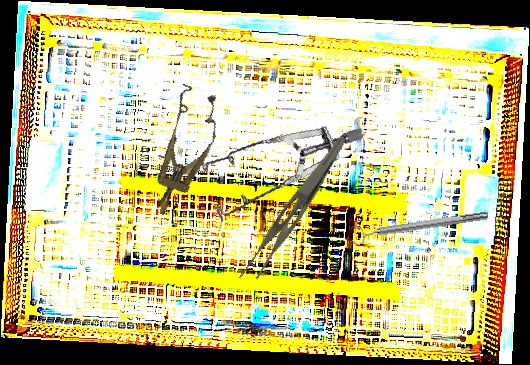Dressing Forceps: (236, 125, 348, 291)
Fixation Ring: (349, 205, 490, 247)
Speculum: (188, 97, 366, 247), (138, 83, 229, 223)
